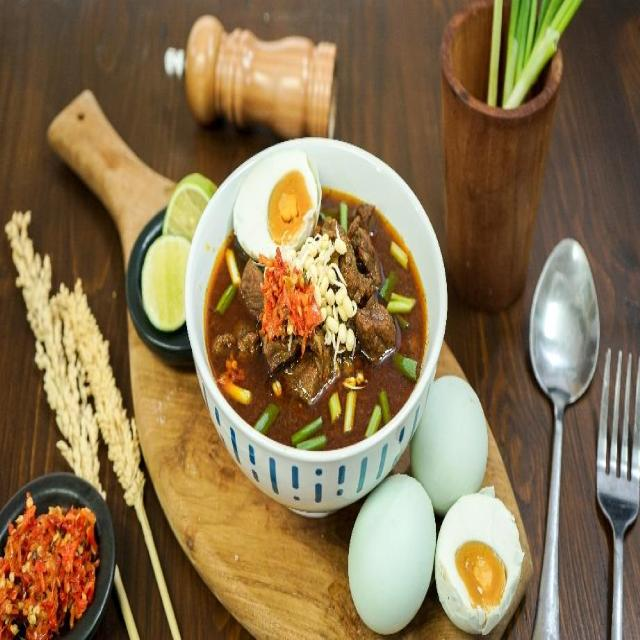Rawon: (204, 186, 414, 432)
